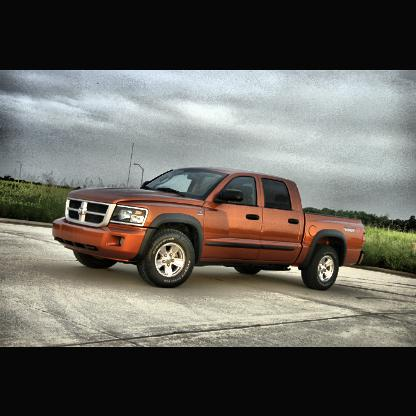Dodge Dakota Crew Cab 2010: (55, 168, 366, 293)
